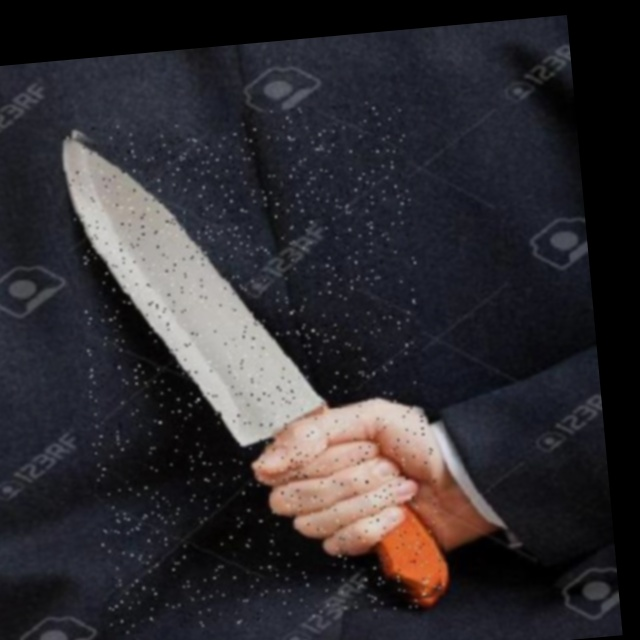Sharp-Object: (64, 99, 446, 635)
